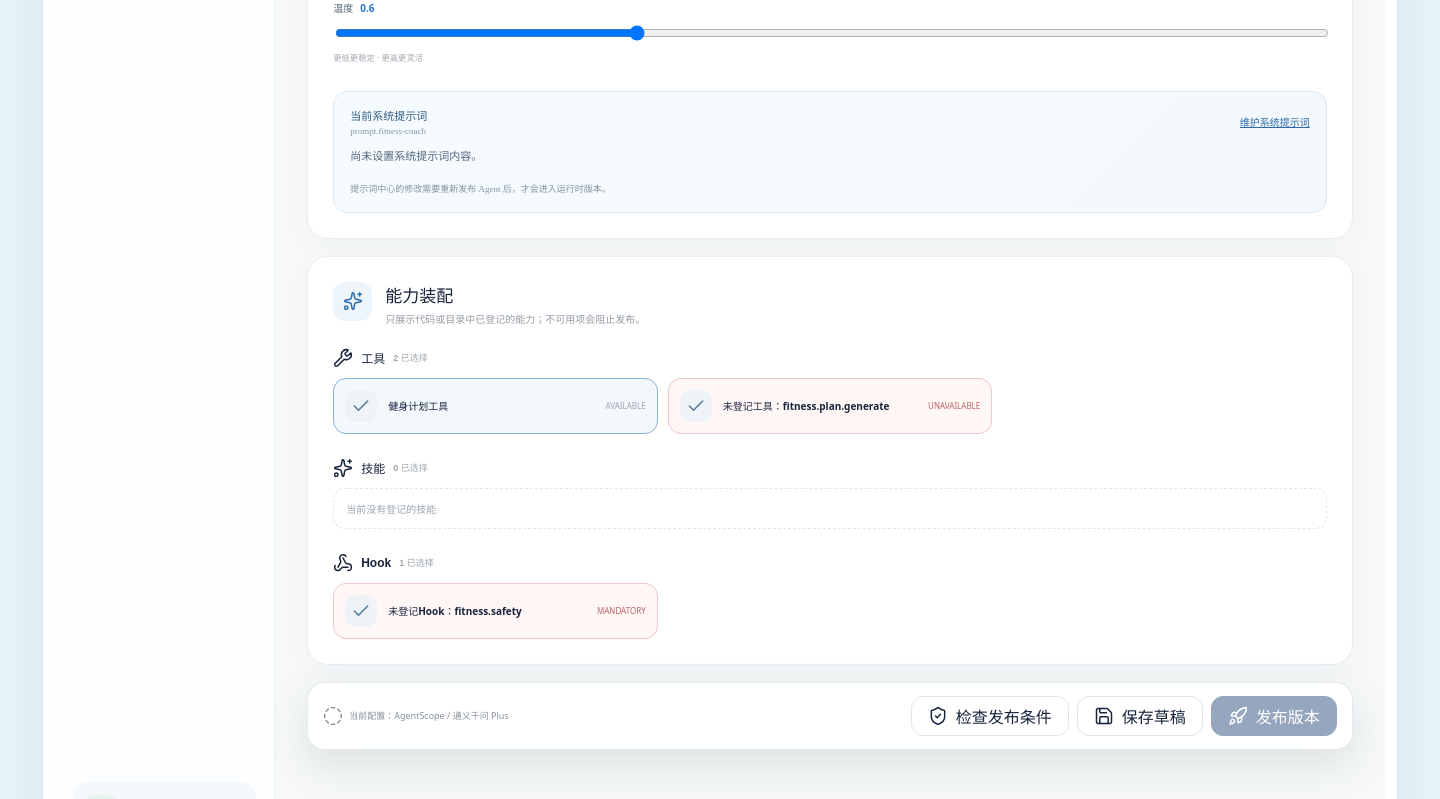
Test case: AdminWorkbench › shows a selected unavailable Tool so an outdated draft binding can be removed
(page scrolled)
Click the button "未登记工具：fitness.plan.generate UNAVAILABLE" at (830, 406), box [668,378,992,434]
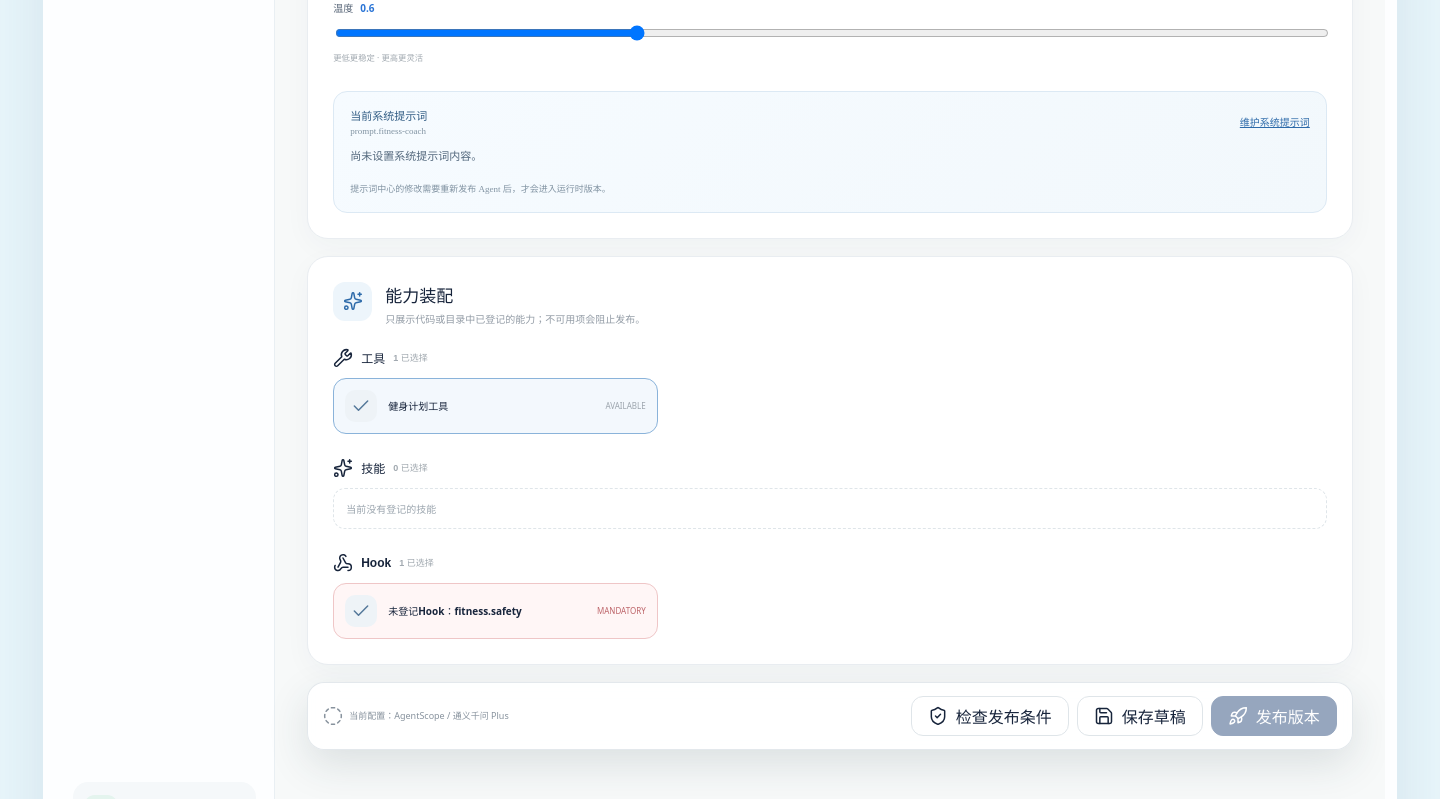
Check: the heading named "工具1 已选择" is shown, box [333,348,428,368]
Check: the button "未登记工具：fitness.plan.generate" is gone
